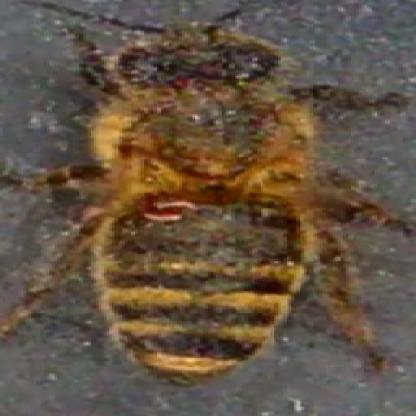bee: (67, 27, 324, 380)
vaoora: (143, 200, 196, 221)
